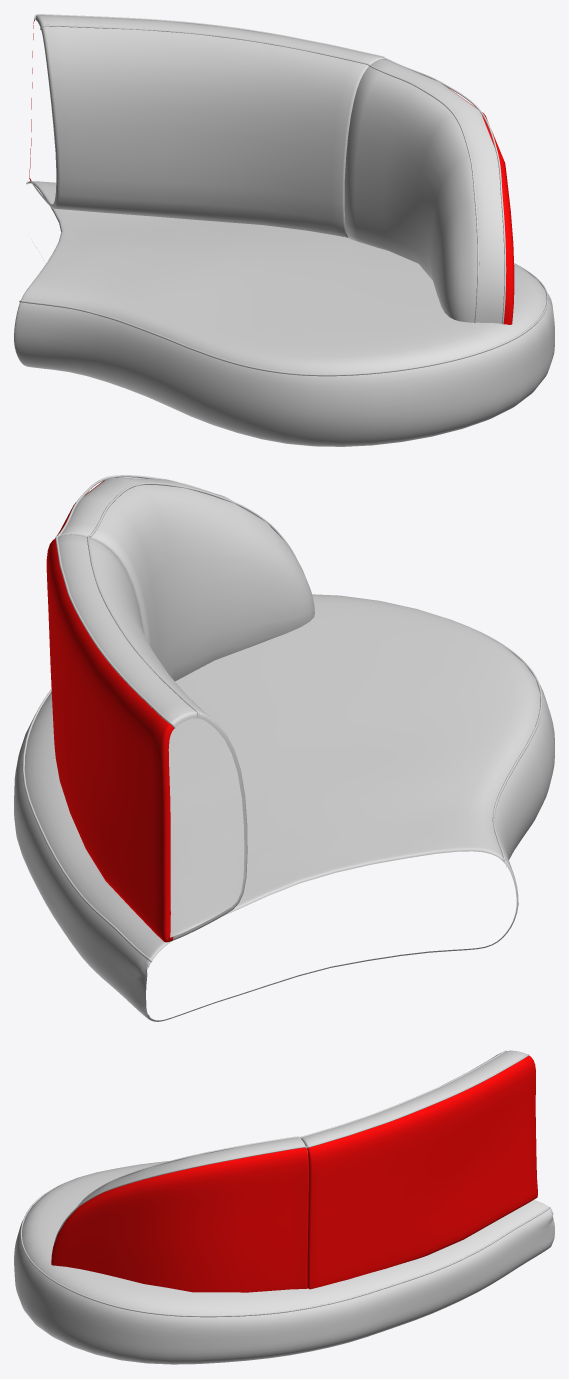
File: levante_longchair.gltf
3 renders of one model, top to bottom at view 1: azimuth 30°, elevation 25°; view 2: azimuth 150°, elevation 25°; view 3: azimuth 270°, elevation 25°, orthographic. The views are drawn at different scales.
Visible parts, largest first — view 1: longchair; view 2: longchair; view 3: longchair.
Part boxes in pixels (<box>): longchair: <box>14,14,554,446</box>; longchair: <box>14,475,554,1021</box>; longchair: <box>14,1050,554,1364</box>.
Bounding box in the file's own units: 1.32 × 0.7136 × 1.68.
